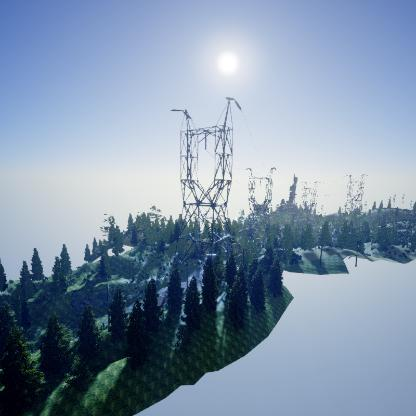tower: (167, 95, 243, 253), (245, 164, 278, 244)
